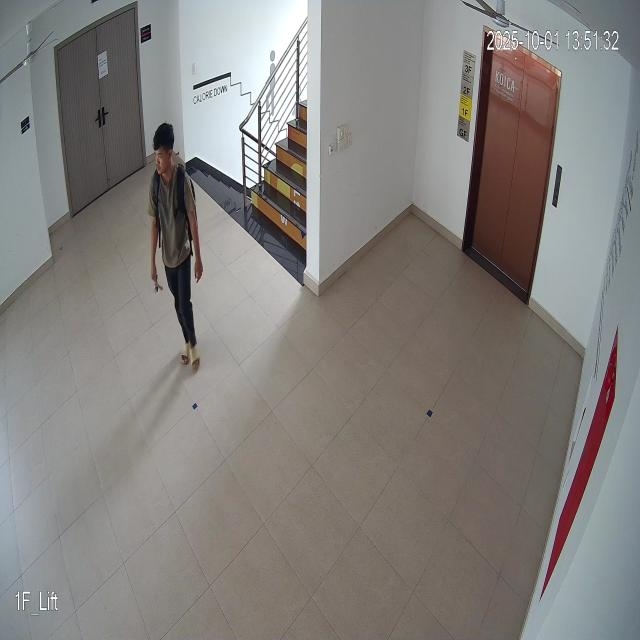face: (152, 120, 179, 185)
